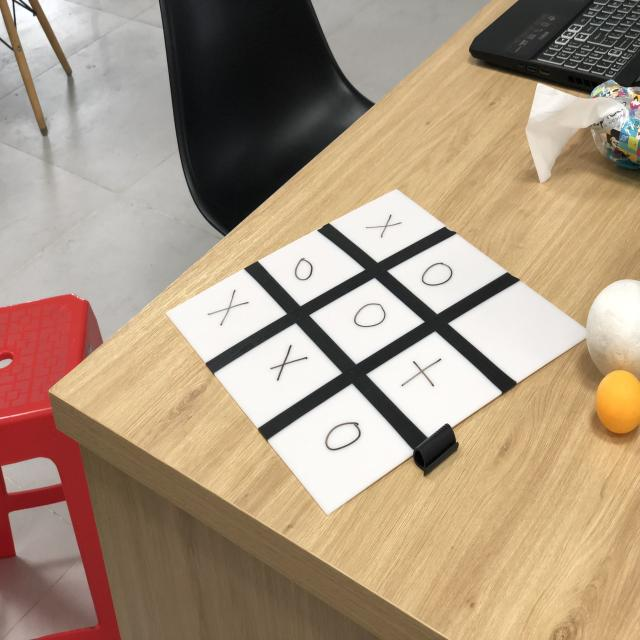null: (448, 261, 591, 397)
o: (326, 418, 362, 454), (418, 258, 455, 289), (289, 254, 319, 284), (355, 301, 386, 328)
table: (165, 123, 589, 527)
x: (208, 293, 247, 329), (400, 355, 437, 392), (269, 347, 305, 381), (365, 215, 404, 242)
